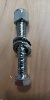FinishedAssembly: (10, 7, 39, 88)
